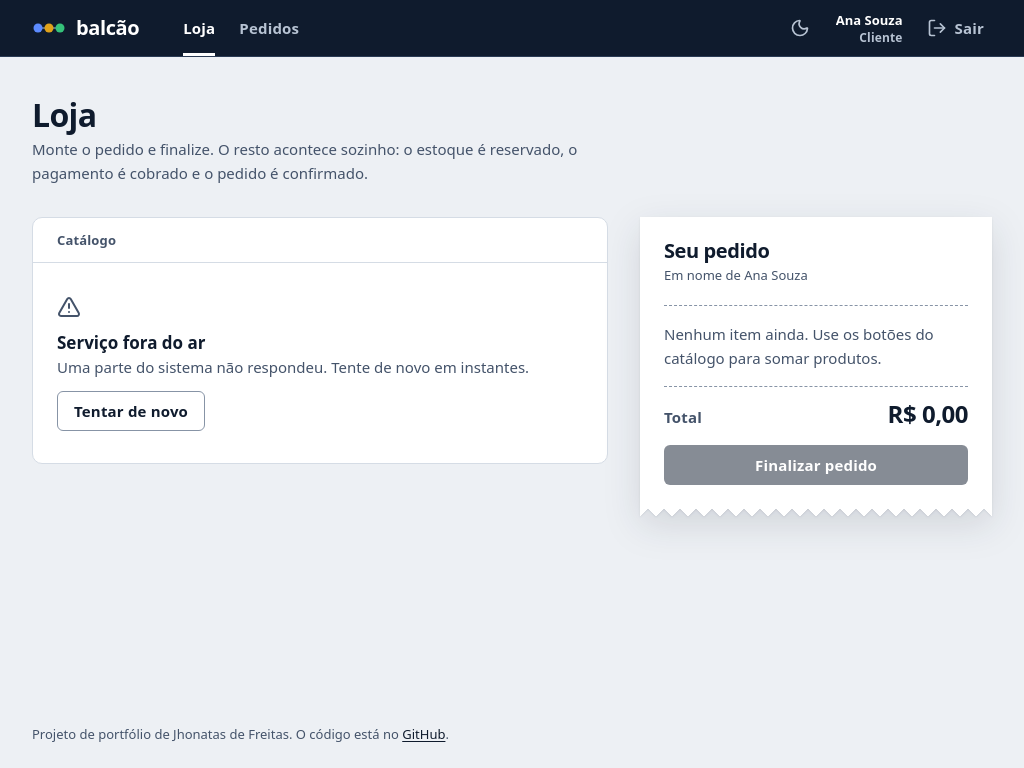
error state, one per screen › shopOffersRetryWhenCatalogFails
The image size is (1024, 768).
Expected: the message shows "Serviço fora do ar", [57, 331, 206, 354]
Expected: the message does not show "detalhe técnico", [57, 295, 529, 431]
Click the button "Tentar de novo" at (131, 411), box [57, 391, 205, 431]
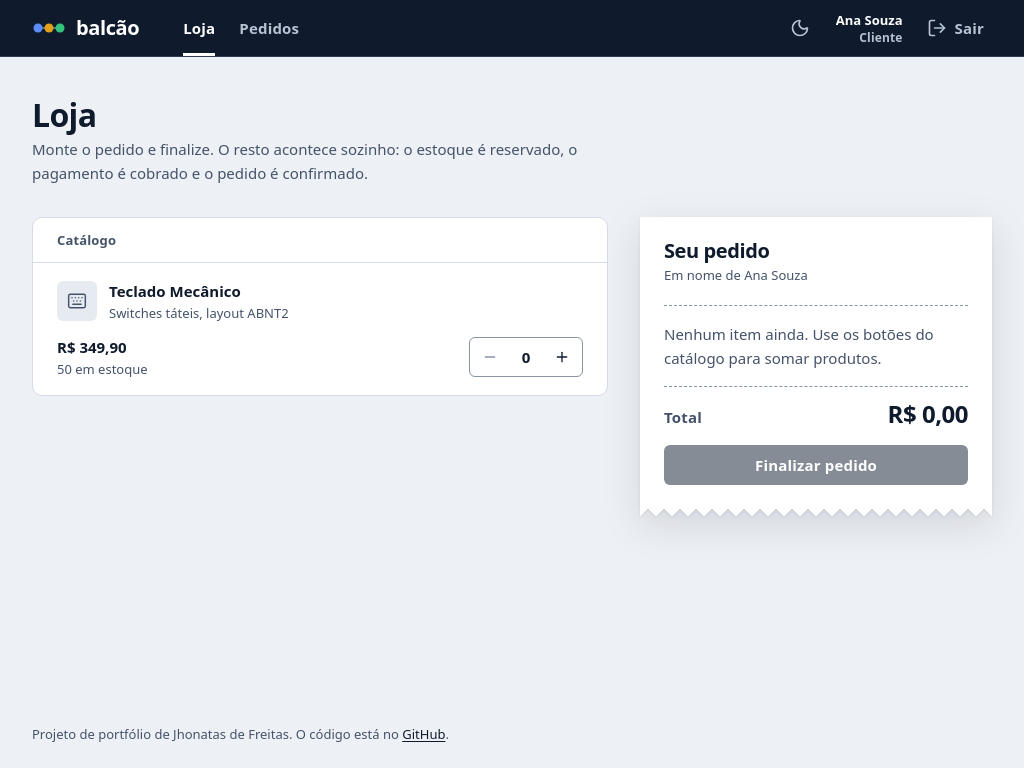
Result: the text "Teclado Mecânico" is shown at [109, 281, 241, 301]
Result: the message is gone
